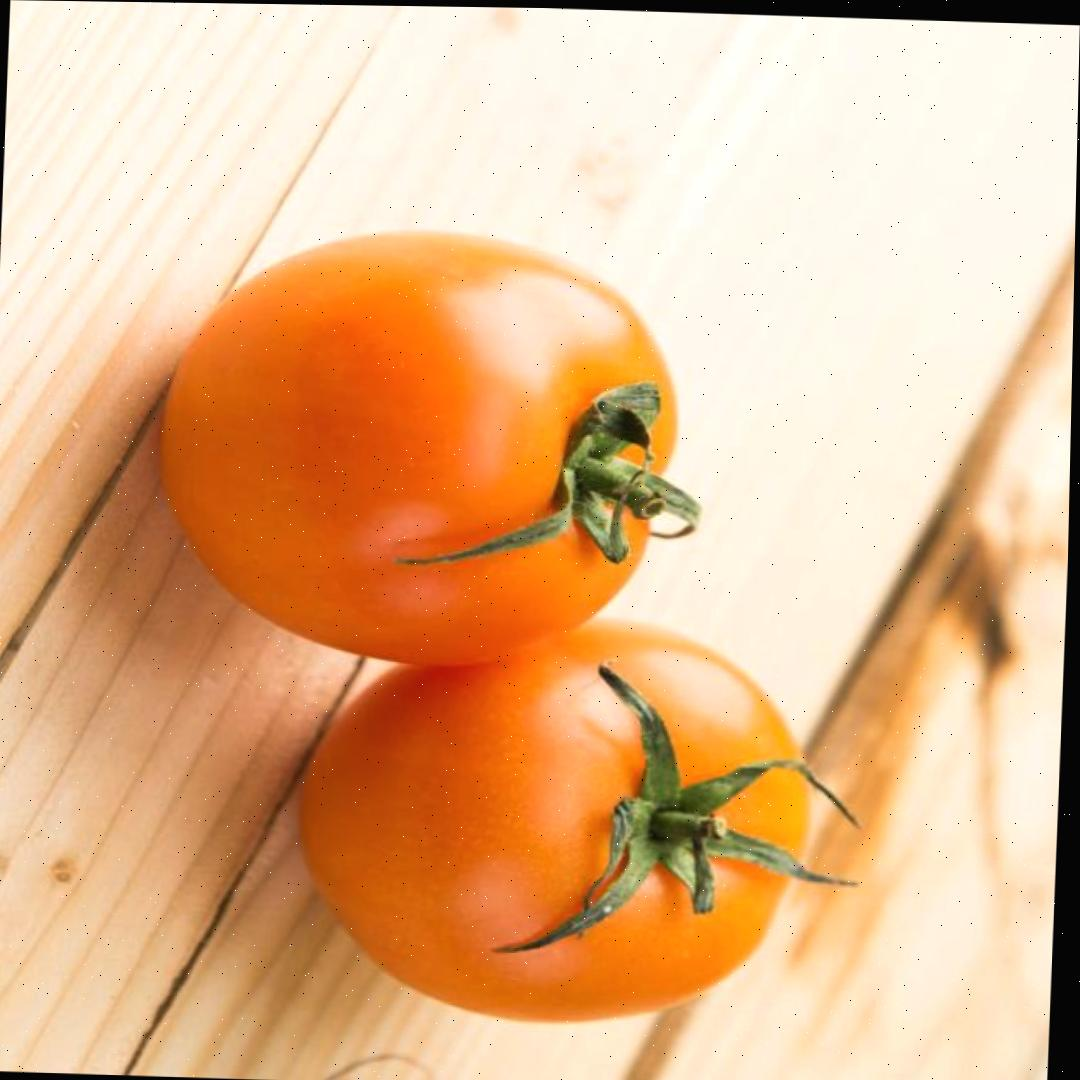matang: (155, 221, 686, 674), (285, 606, 819, 1035)
